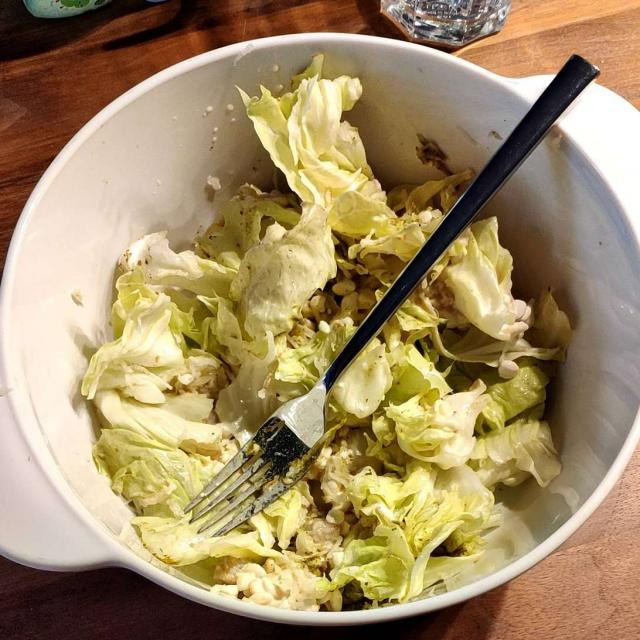salad-leaf-salad-green: (86, 76, 560, 602)
